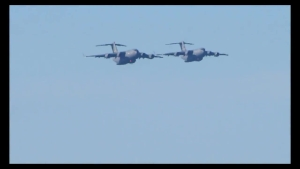flight: (84, 42, 165, 65), (155, 41, 228, 64)
